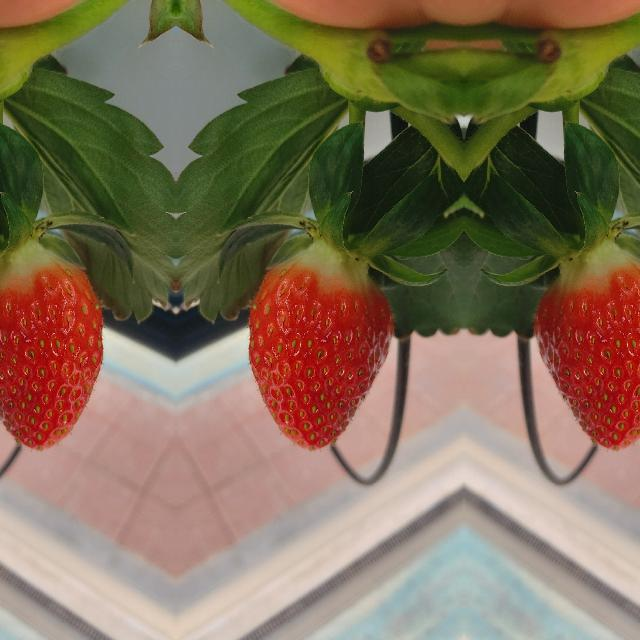Health_100: (246, 242, 394, 452), (531, 242, 640, 452), (0, 242, 104, 452)
